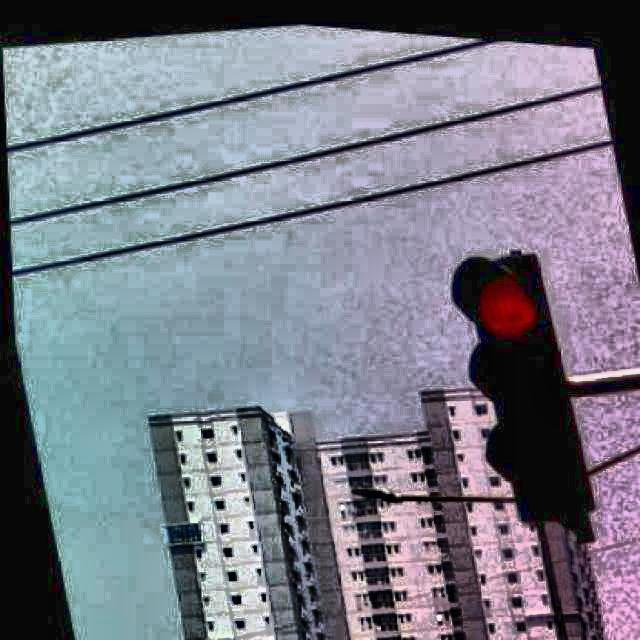red: (446, 253, 606, 535)
